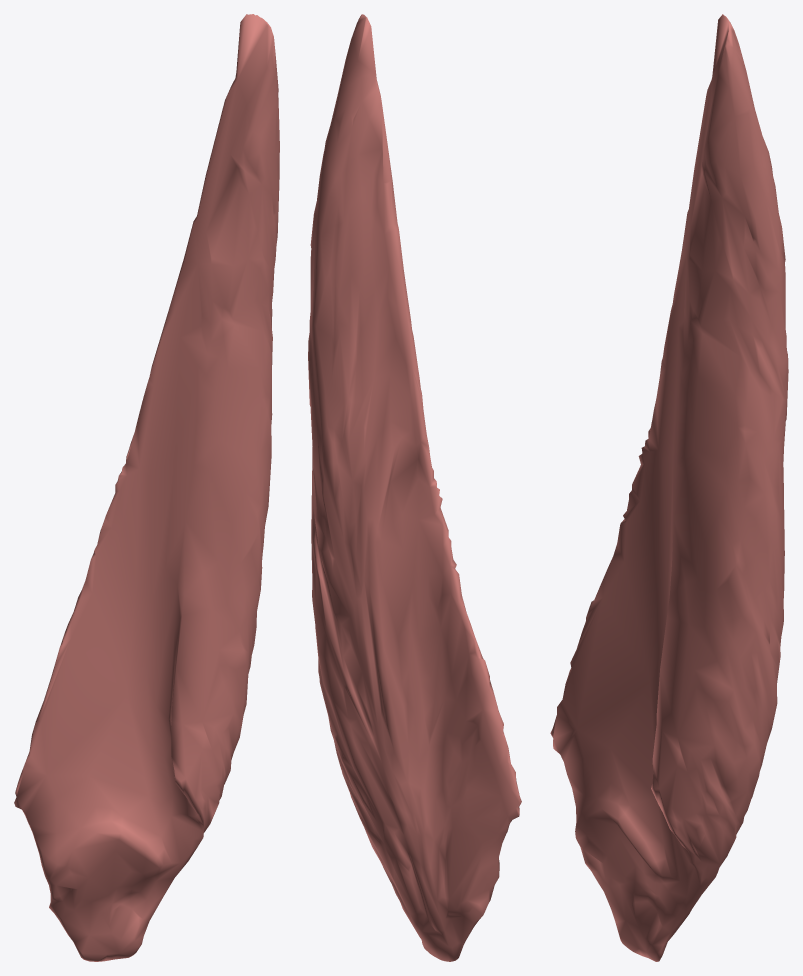
3 renders of one model, left to right at view 1: azimuth 30°, elevation 25°; view 2: azimuth 150°, elevation 25°; view 3: azimuth 330°, elevation 25°, orthographic. The views are drawn at different scales.
Parts seen in each view (by area): view 1: ZA_57697192a9eac6bf; view 2: ZA_57697192a9eac6bf; view 3: ZA_57697192a9eac6bf.
Part boxes in pixels (<box>): ZA_57697192a9eac6bf: <box>14,14,279,961</box>; ZA_57697192a9eac6bf: <box>308,14,521,961</box>; ZA_57697192a9eac6bf: <box>550,14,788,961</box>.
Size of the model in its own units: 0.0623 by 0.2343 by 0.0267.
